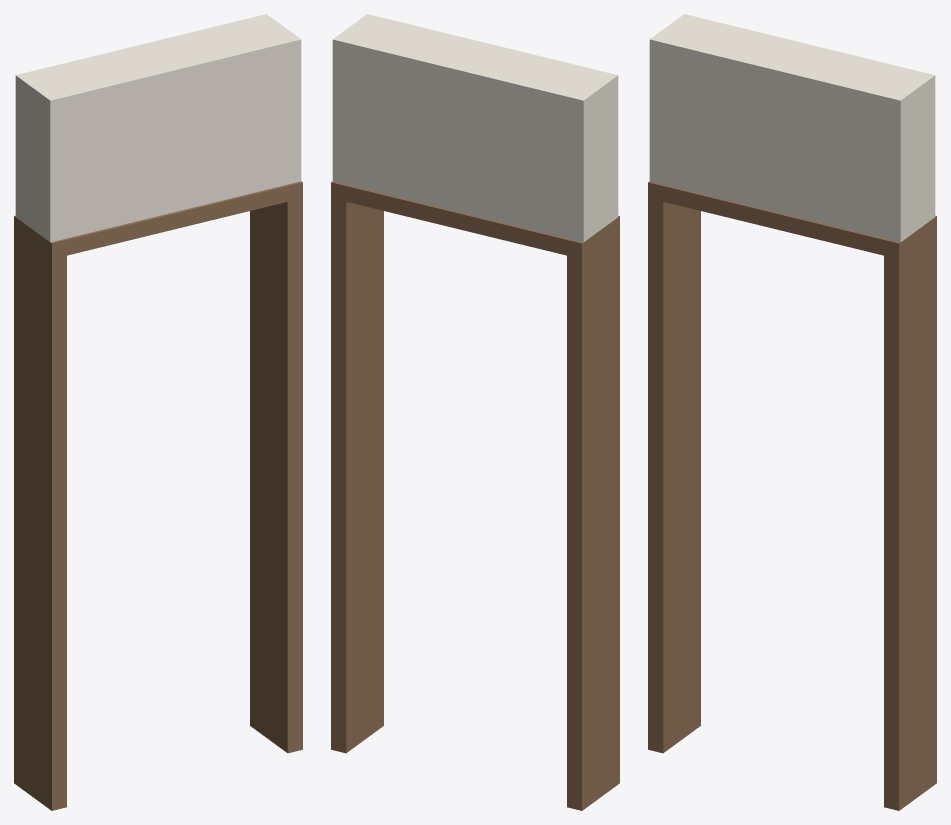
File: door_frame.glb
3 views of the same model, side by side, from view 1: azimuth 30°, elevation 25°; view 2: azimuth 150°, elevation 25°; view 3: azimuth 330°, elevation 25° (orthographic).
Visible parts, largest first — view 1: door_frame; view 2: door_frame; view 3: door_frame.
Boxes of the visible parts, x1,y1,x2,y2 form: door_frame: [14, 14, 302, 810]; door_frame: [331, 14, 619, 810]; door_frame: [648, 14, 936, 810].
Bounding box in the file's own units: 1 × 2.7 × 0.26.
